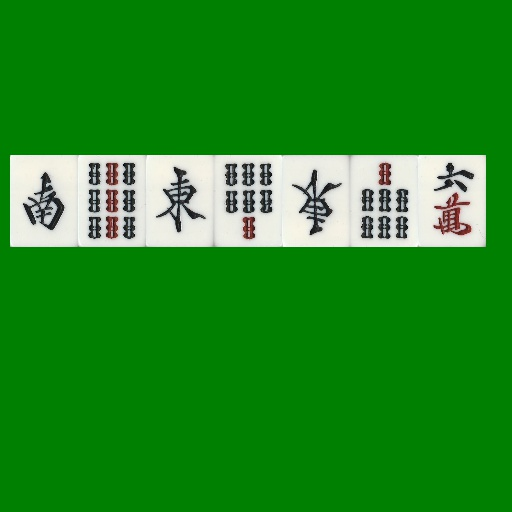6m: (418, 155, 486, 247)
7s: (214, 155, 282, 247), (350, 155, 418, 247)
9s: (78, 155, 146, 247)
east: (146, 155, 214, 247), (282, 155, 350, 247)
south: (10, 155, 78, 247)
